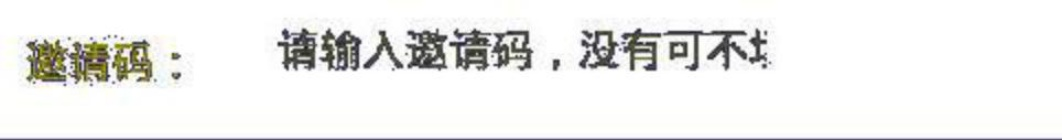EditText: (1, 1, 1061, 139)
